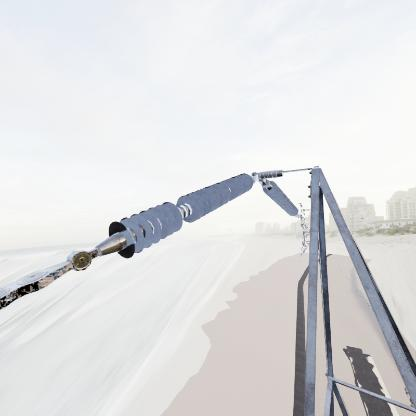insulator: (86, 172, 253, 262), (259, 177, 301, 219)
